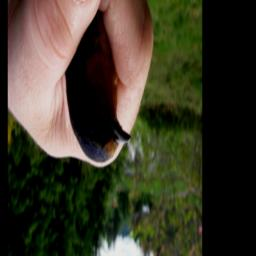Swallow: (63, 9, 133, 167)
